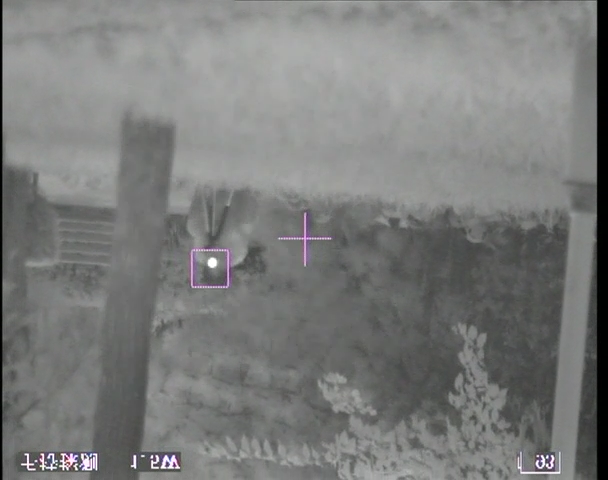my: (207, 255, 220, 269)
